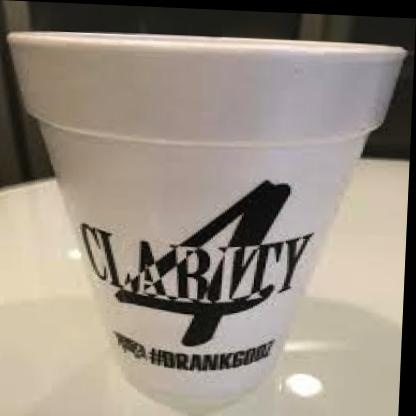trash: (8, 32, 405, 407)
